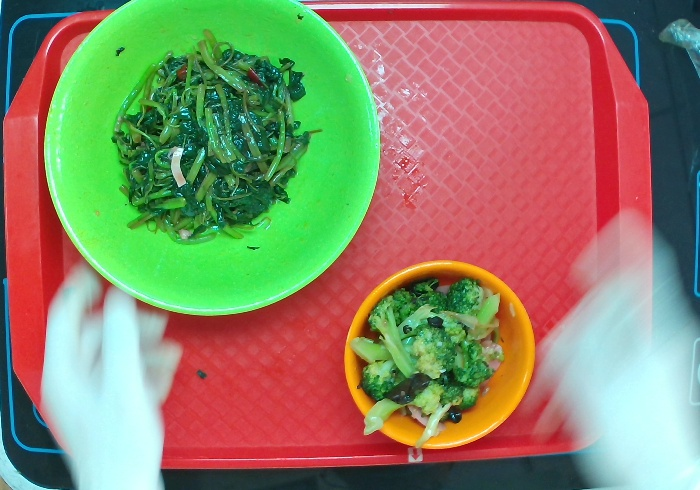YKMZ-Ju_Se_Yuan_Wan: (343, 257, 539, 451)
YKMZ-Lv_Se_Tang_Wan: (41, 1, 383, 317)
